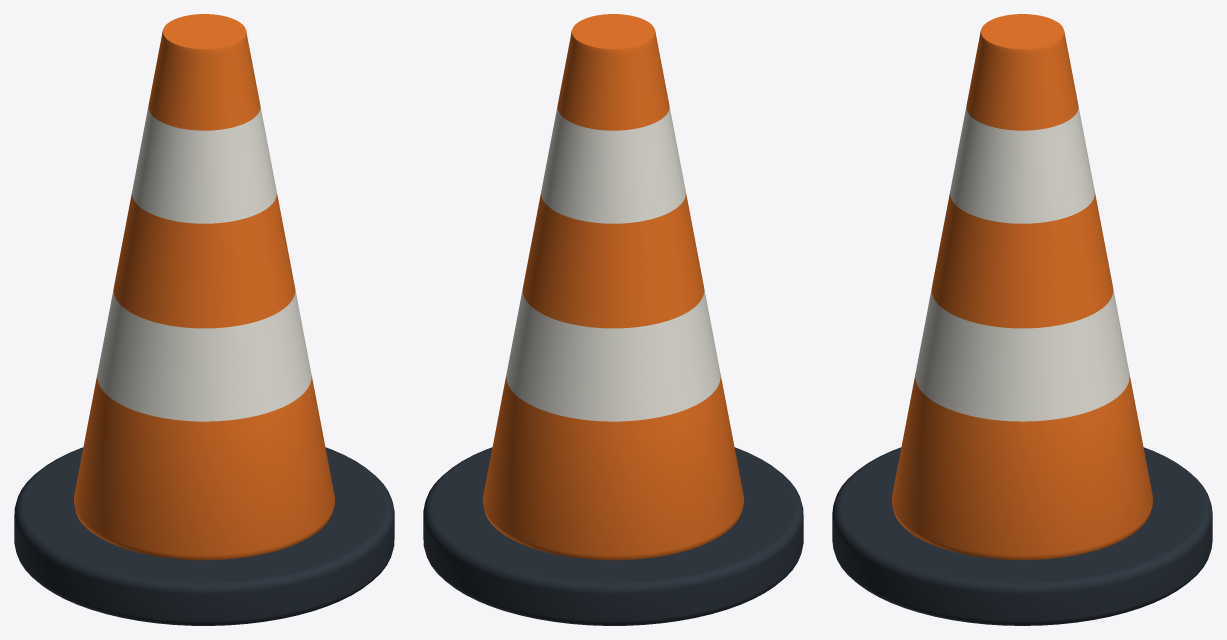
Rendered from course-marker.glb.
3 views of the same model, side by side, from view 1: azimuth 30°, elevation 25°; view 2: azimuth 150°, elevation 25°; view 3: azimuth 270°, elevation 25° (orthographic).
Parts seen in each view (by area): view 1: robobuild-course-marker-banded-body, robobuild-course-marker-base; view 2: robobuild-course-marker-banded-body, robobuild-course-marker-base; view 3: robobuild-course-marker-banded-body, robobuild-course-marker-base.
Part boxes in pixels (box(x1,y1,x2,y2)): robobuild-course-marker-banded-body: box(74, 14, 334, 560); robobuild-course-marker-base: box(14, 447, 394, 625); robobuild-course-marker-banded-body: box(483, 14, 743, 560); robobuild-course-marker-base: box(423, 447, 803, 625); robobuild-course-marker-banded-body: box(891, 14, 1153, 560); robobuild-course-marker-base: box(832, 447, 1212, 625).
Size of the model in its own units: 0.032 by 0.048 by 0.032.
